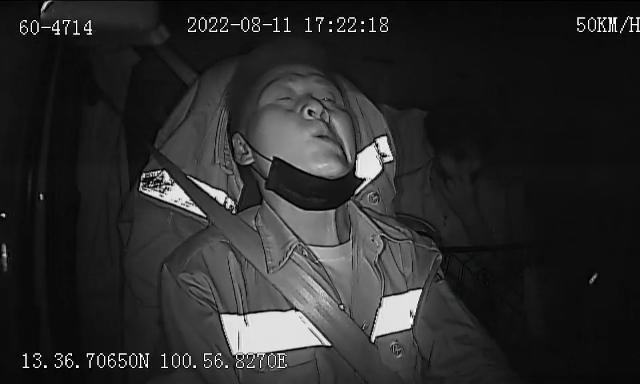SafeDriving: (297, 98, 323, 124)
Seatbelt: (158, 152, 400, 384)
